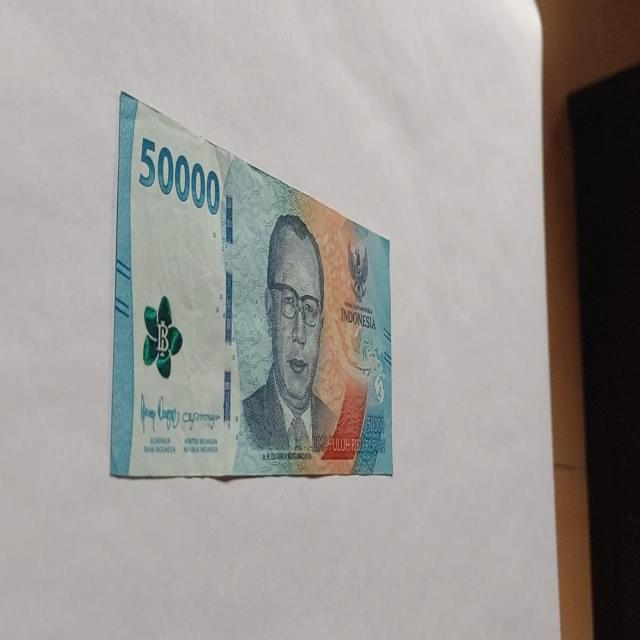lima puluh ribu rupiah: (109, 90, 394, 482), (231, 210, 365, 476), (137, 134, 221, 216)
